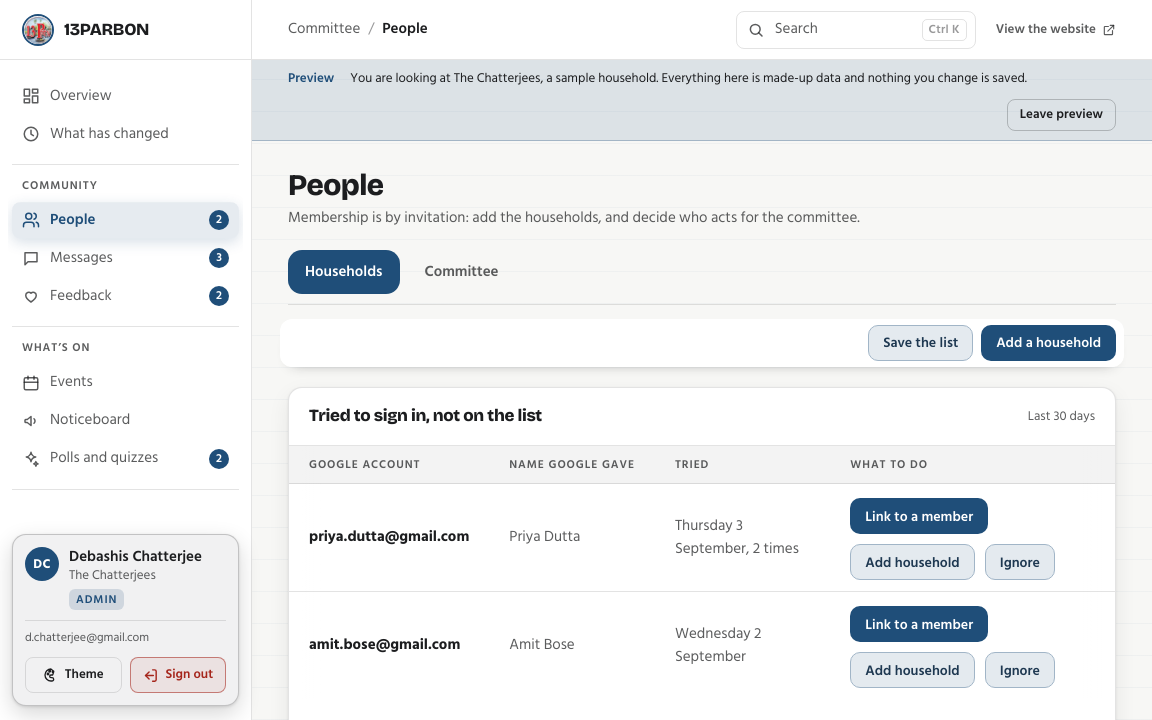
it: saving the list of households › downloads once it is confirmed
This screenshot has width=1152, height=720.
What coordinates should you click on to do the following:
click the button "Save the list"
I would click on:
 (921, 343)
Its box is [868,325,973,361].
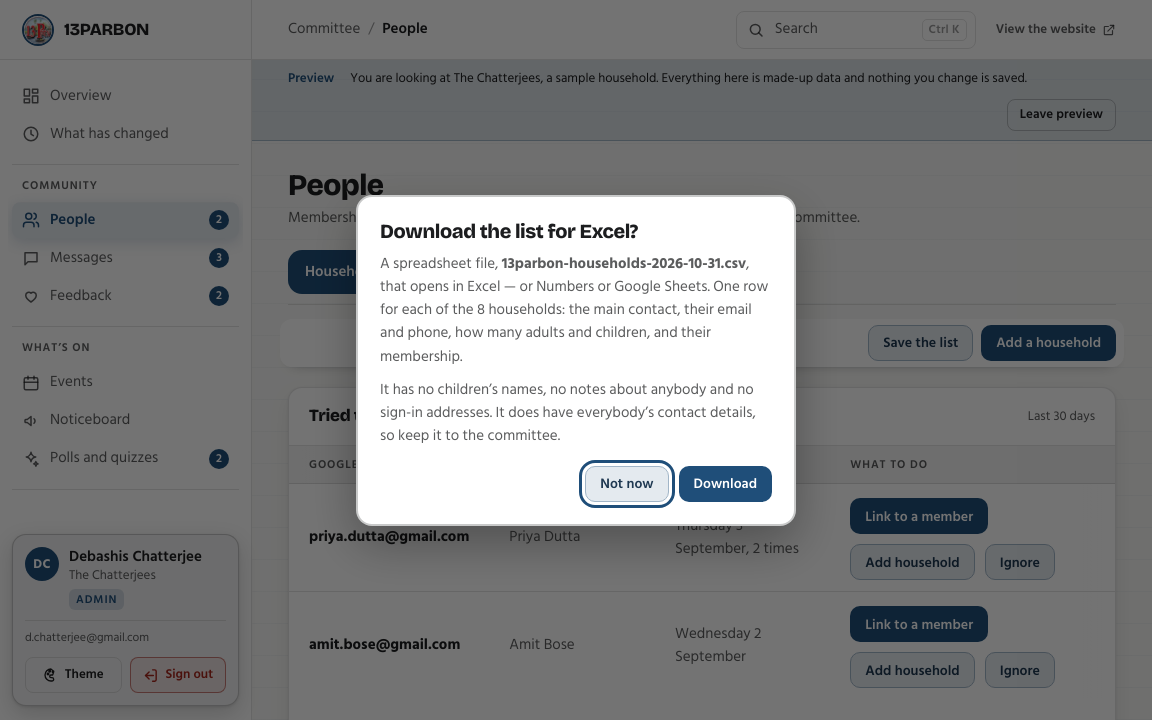
What coordinates should you click on to do the following:
click the button "Download"
I would click on:
 (725, 484)
Its box is [678,466,772,502].
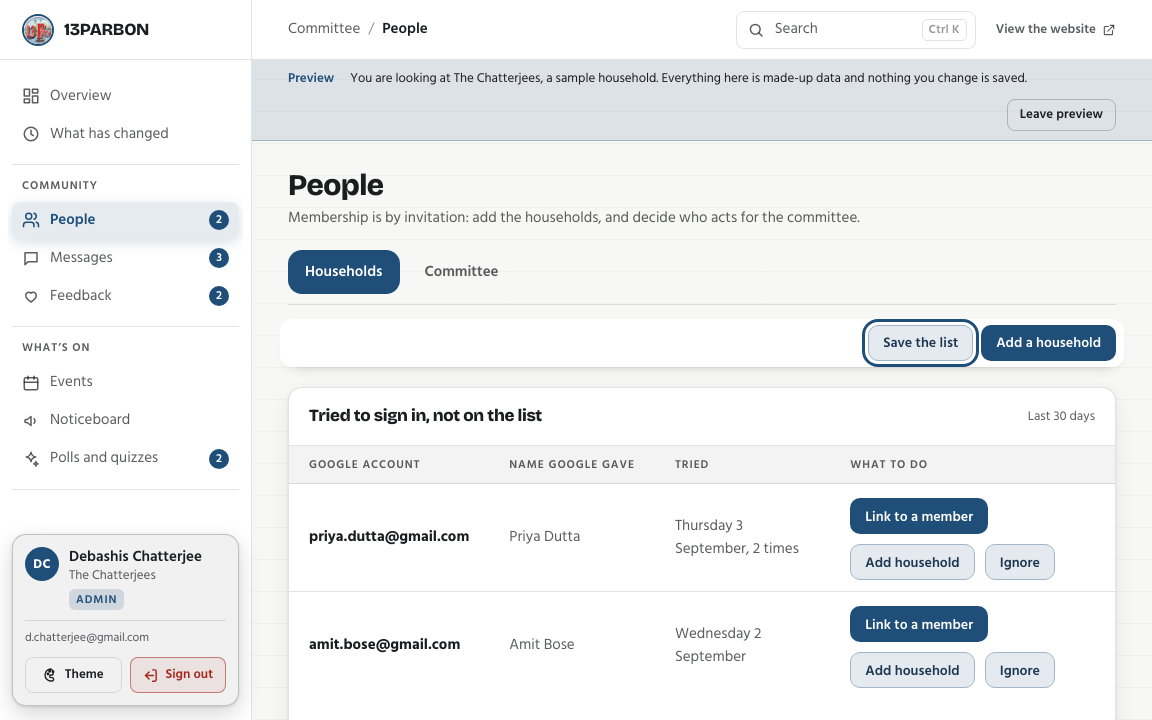
Now the dialog is gone
